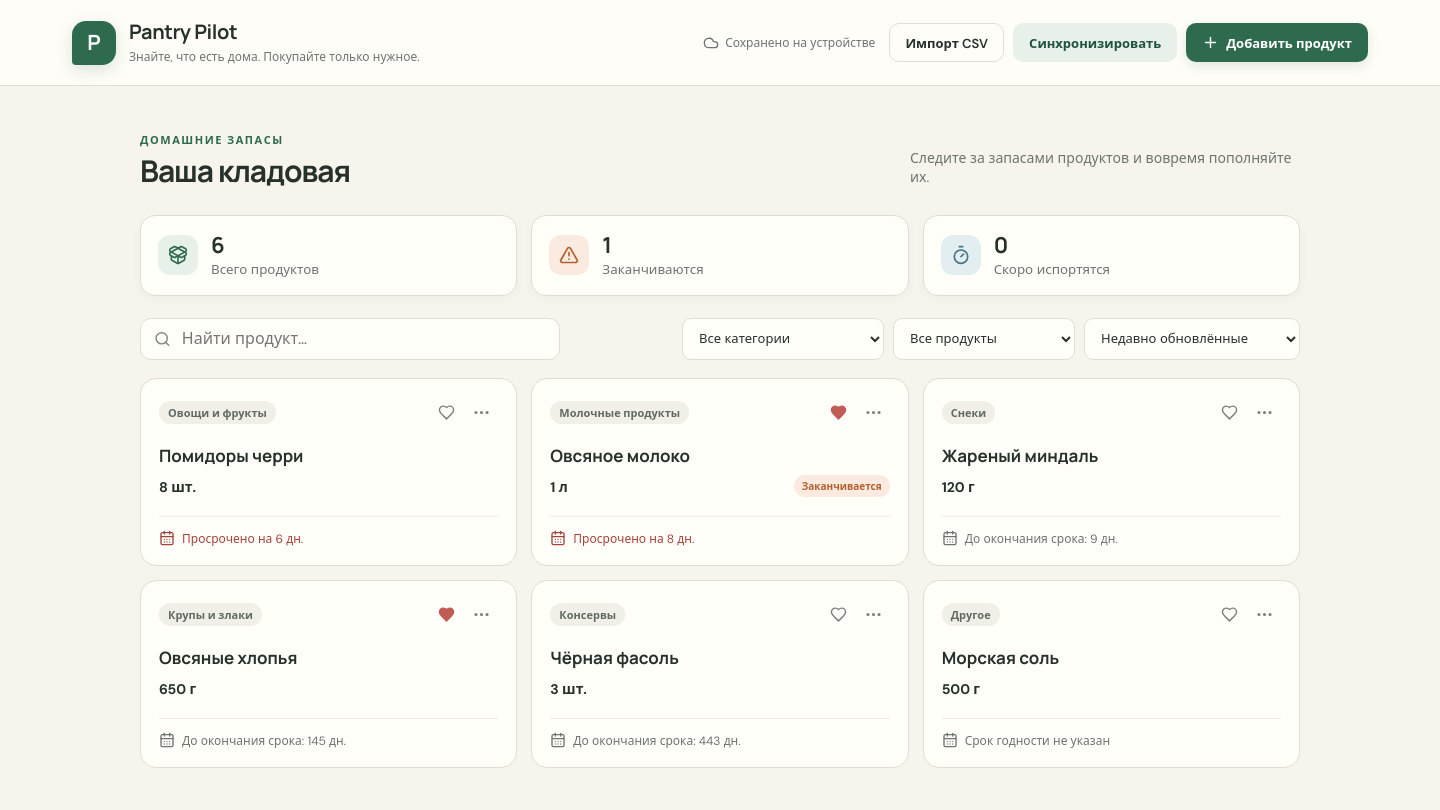
Test: App › при ошибке записи после изменения продукта появляется предупреждение и соответствующий статус, которые удаляются после успешного сохранения
Check: the text "Не удалось сохранить изменения в браузере" is not shown
Check: the text "Не сохранено на устройстве" is not shown
Click the button named "Добавить Помидоры черри в избранное" at {"x": 447, "y": 412}, box [430,396,463,429]
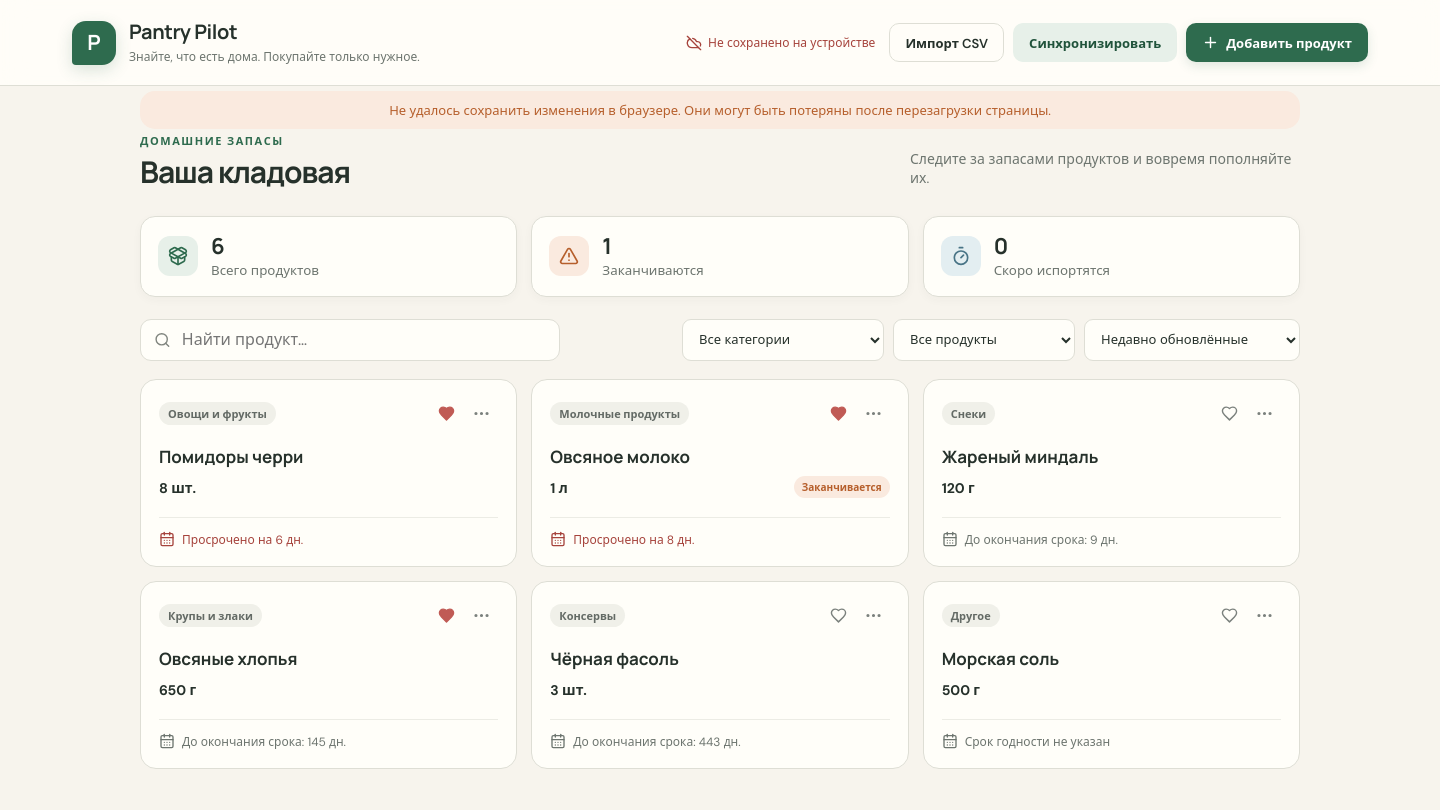
Check: the text "Не удалось сохранить изменения в браузере" is shown, box [389,102,1051,119]
Check: the text "Не сохранено на устройстве" is shown, box [708,34,875,51]
Click the button named "Удалить Помидоры черри из избранного" at {"x": 447, "y": 413}, box [430,397,463,430]
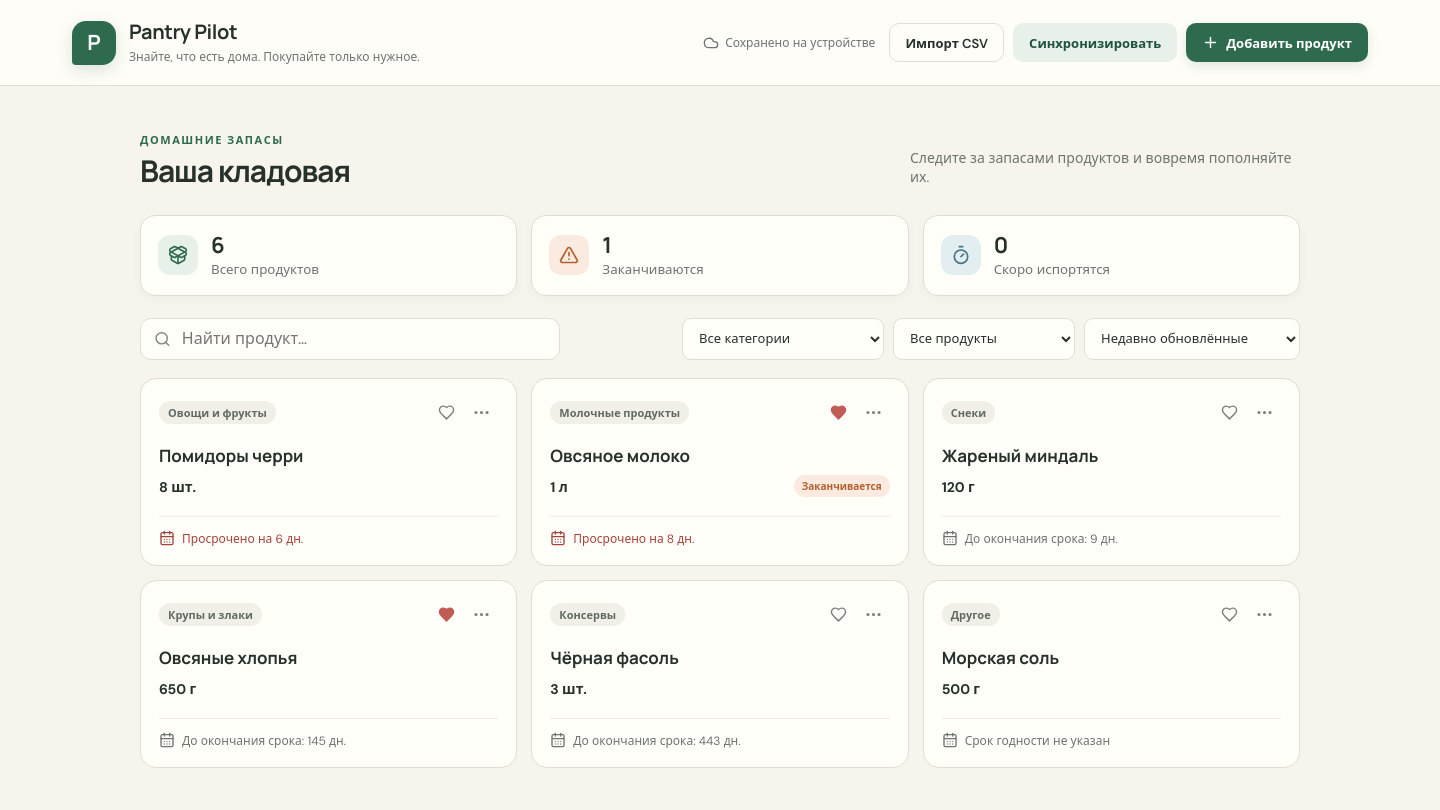
Check: the text "Сохранено на устройстве" is shown, box [725,34,875,51]
Check: the text "Не удалось сохранить изменения в браузере" is gone
Check: the text "Не сохранено на устройстве" is gone
